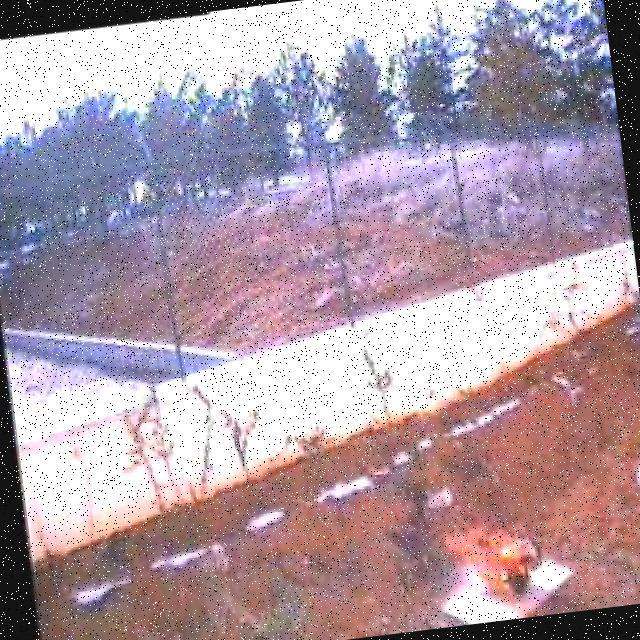Fire: (437, 513, 551, 613)
